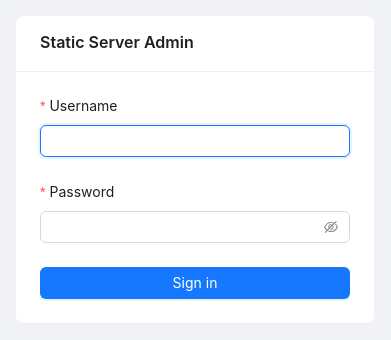
Scenario: LoginPage › validates required fields
This screenshot has width=391, height=340.
Click the button "Sign in". click: click(195, 282)
box: [40, 266, 350, 298]
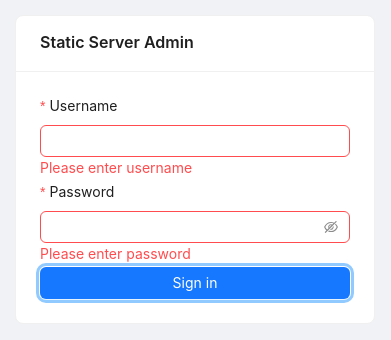
Check: the text "Please enter username" is shown, box [40, 158, 192, 176]
